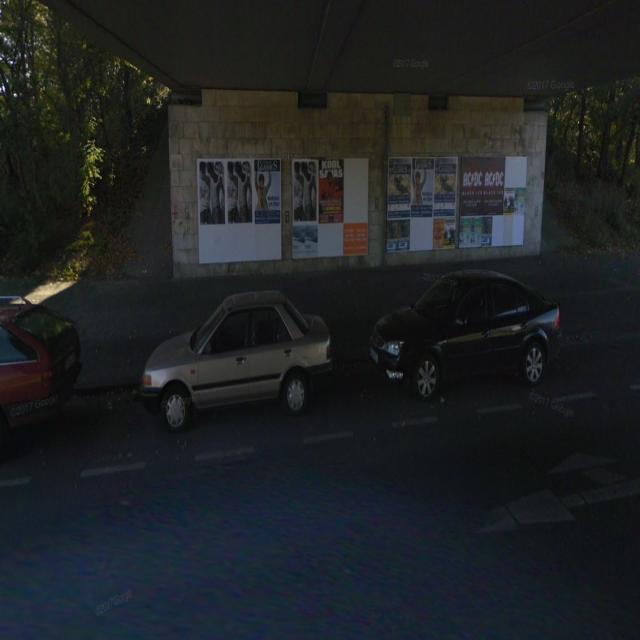Werbetafel frei: (192, 154, 284, 267), (288, 150, 372, 268), (459, 146, 536, 261), (384, 149, 459, 256)
